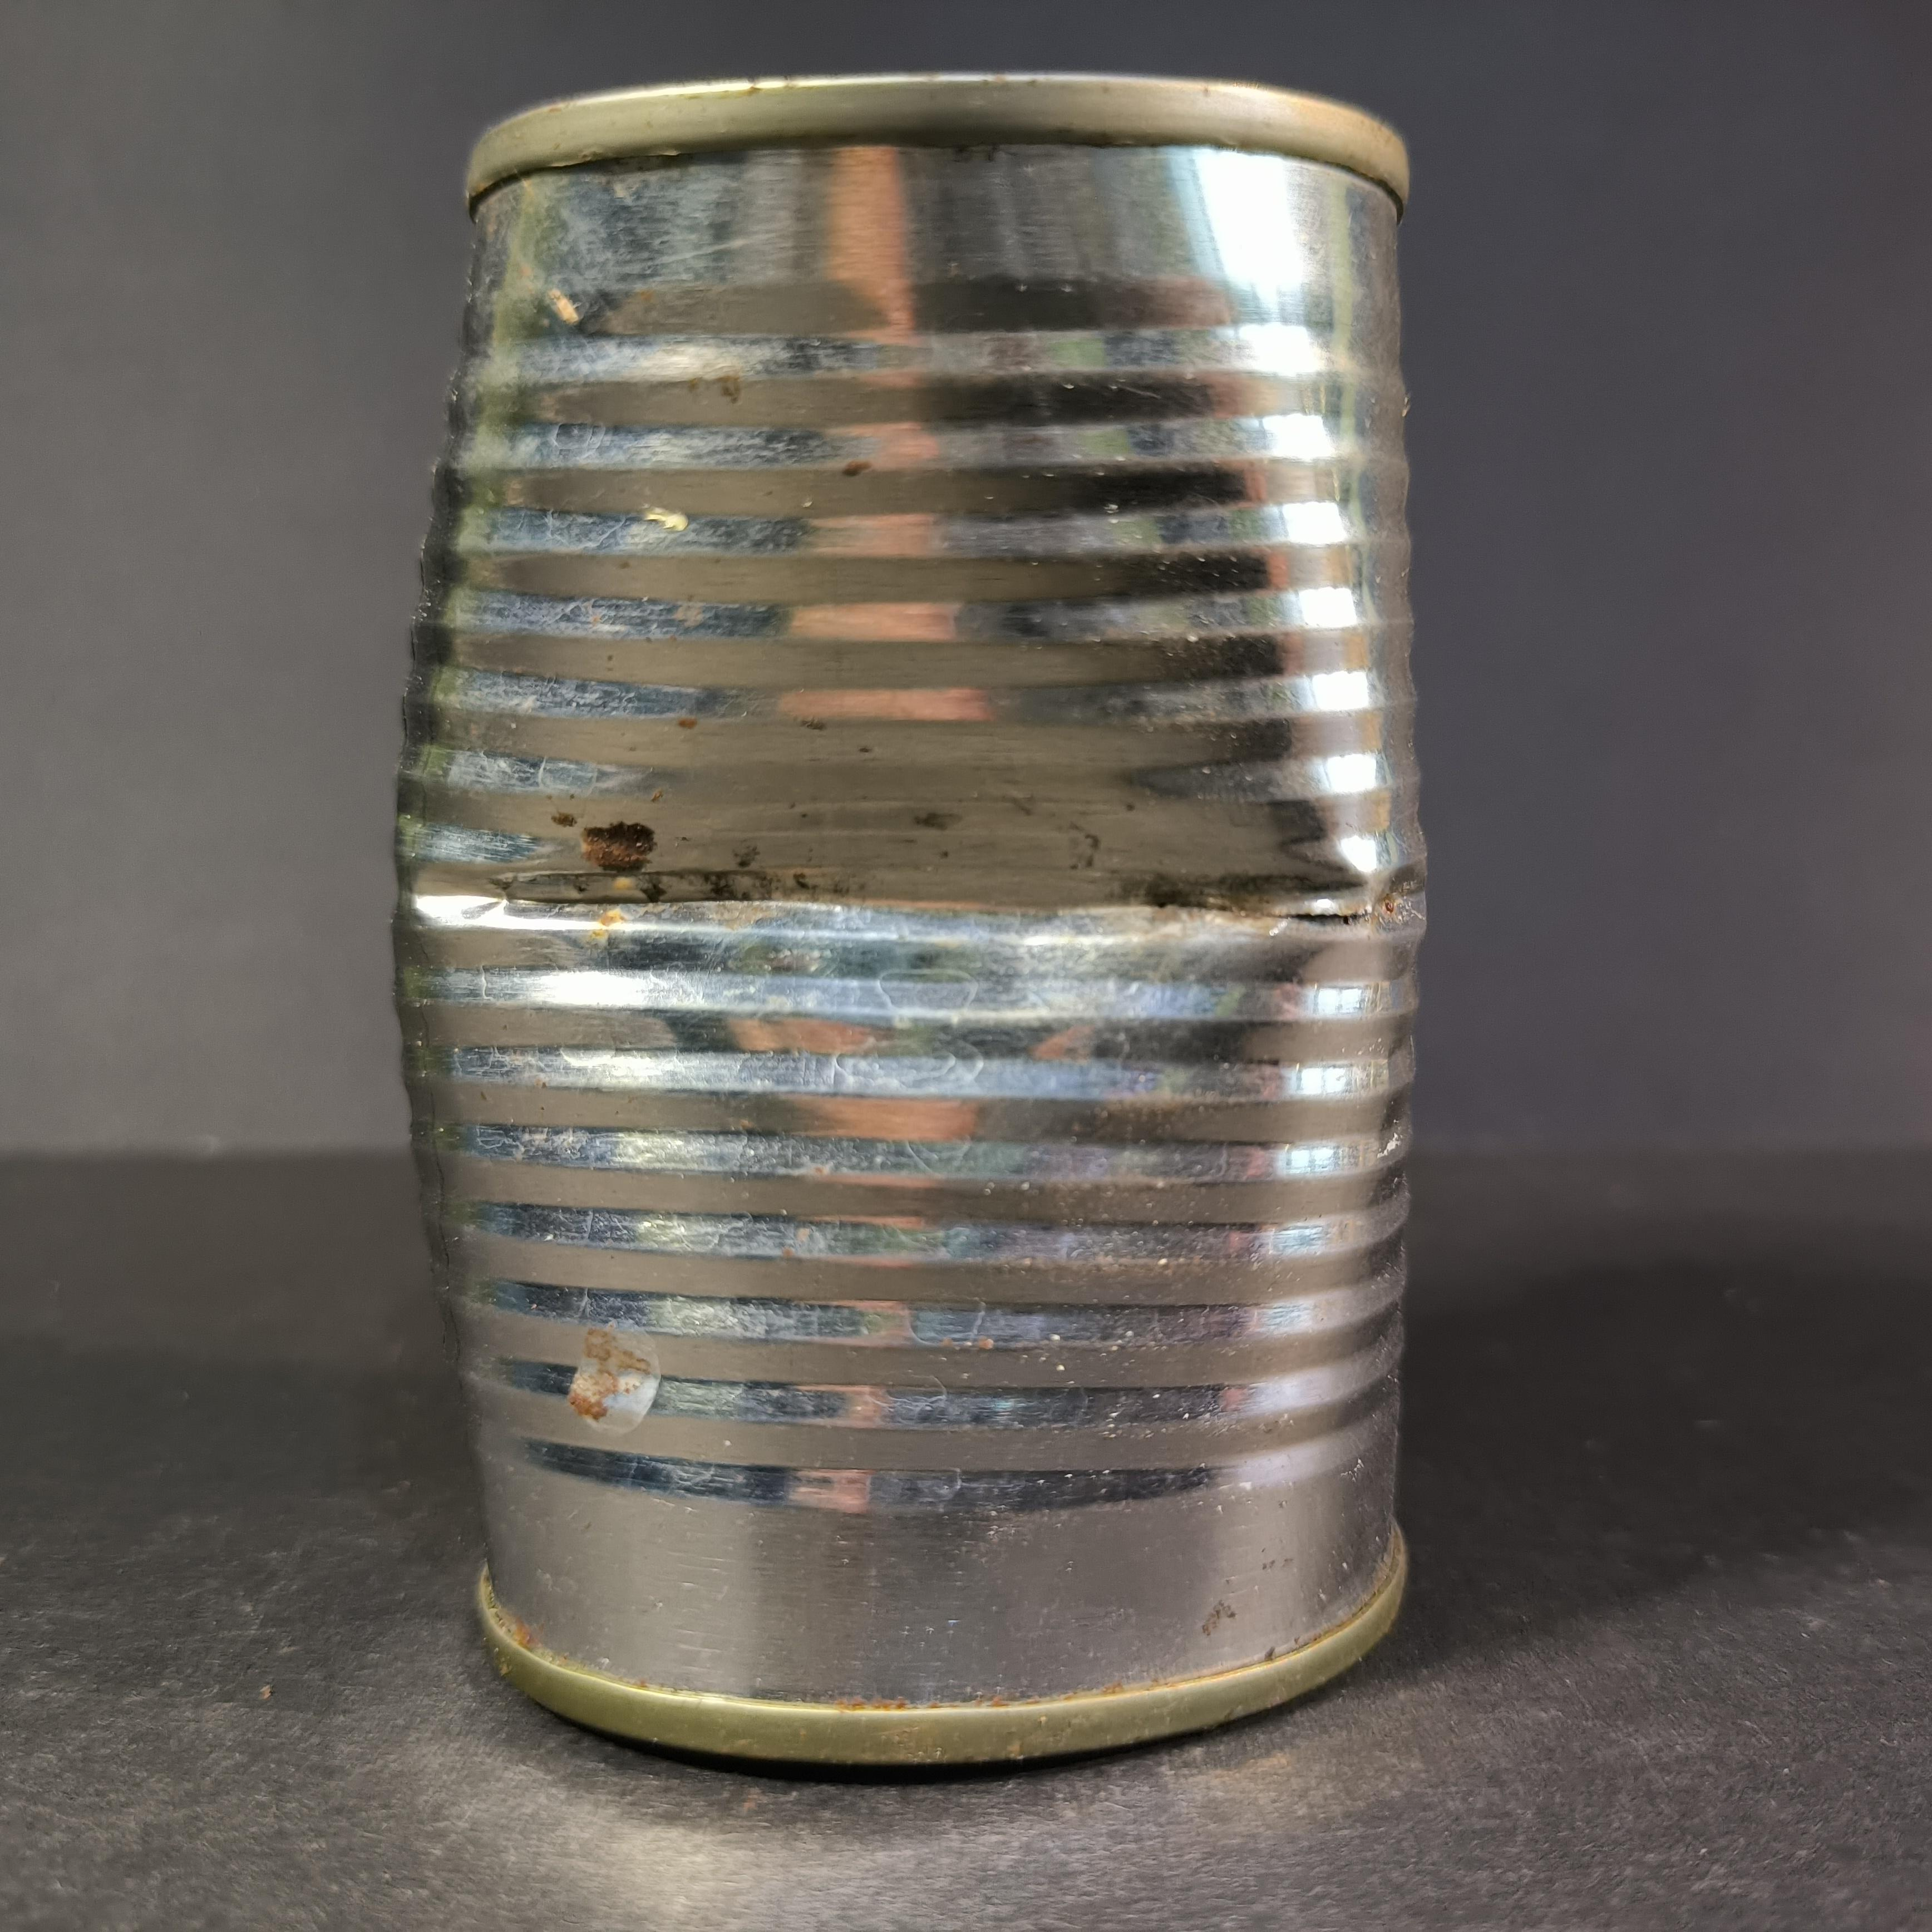Dented: (348, 45, 1489, 1820)
